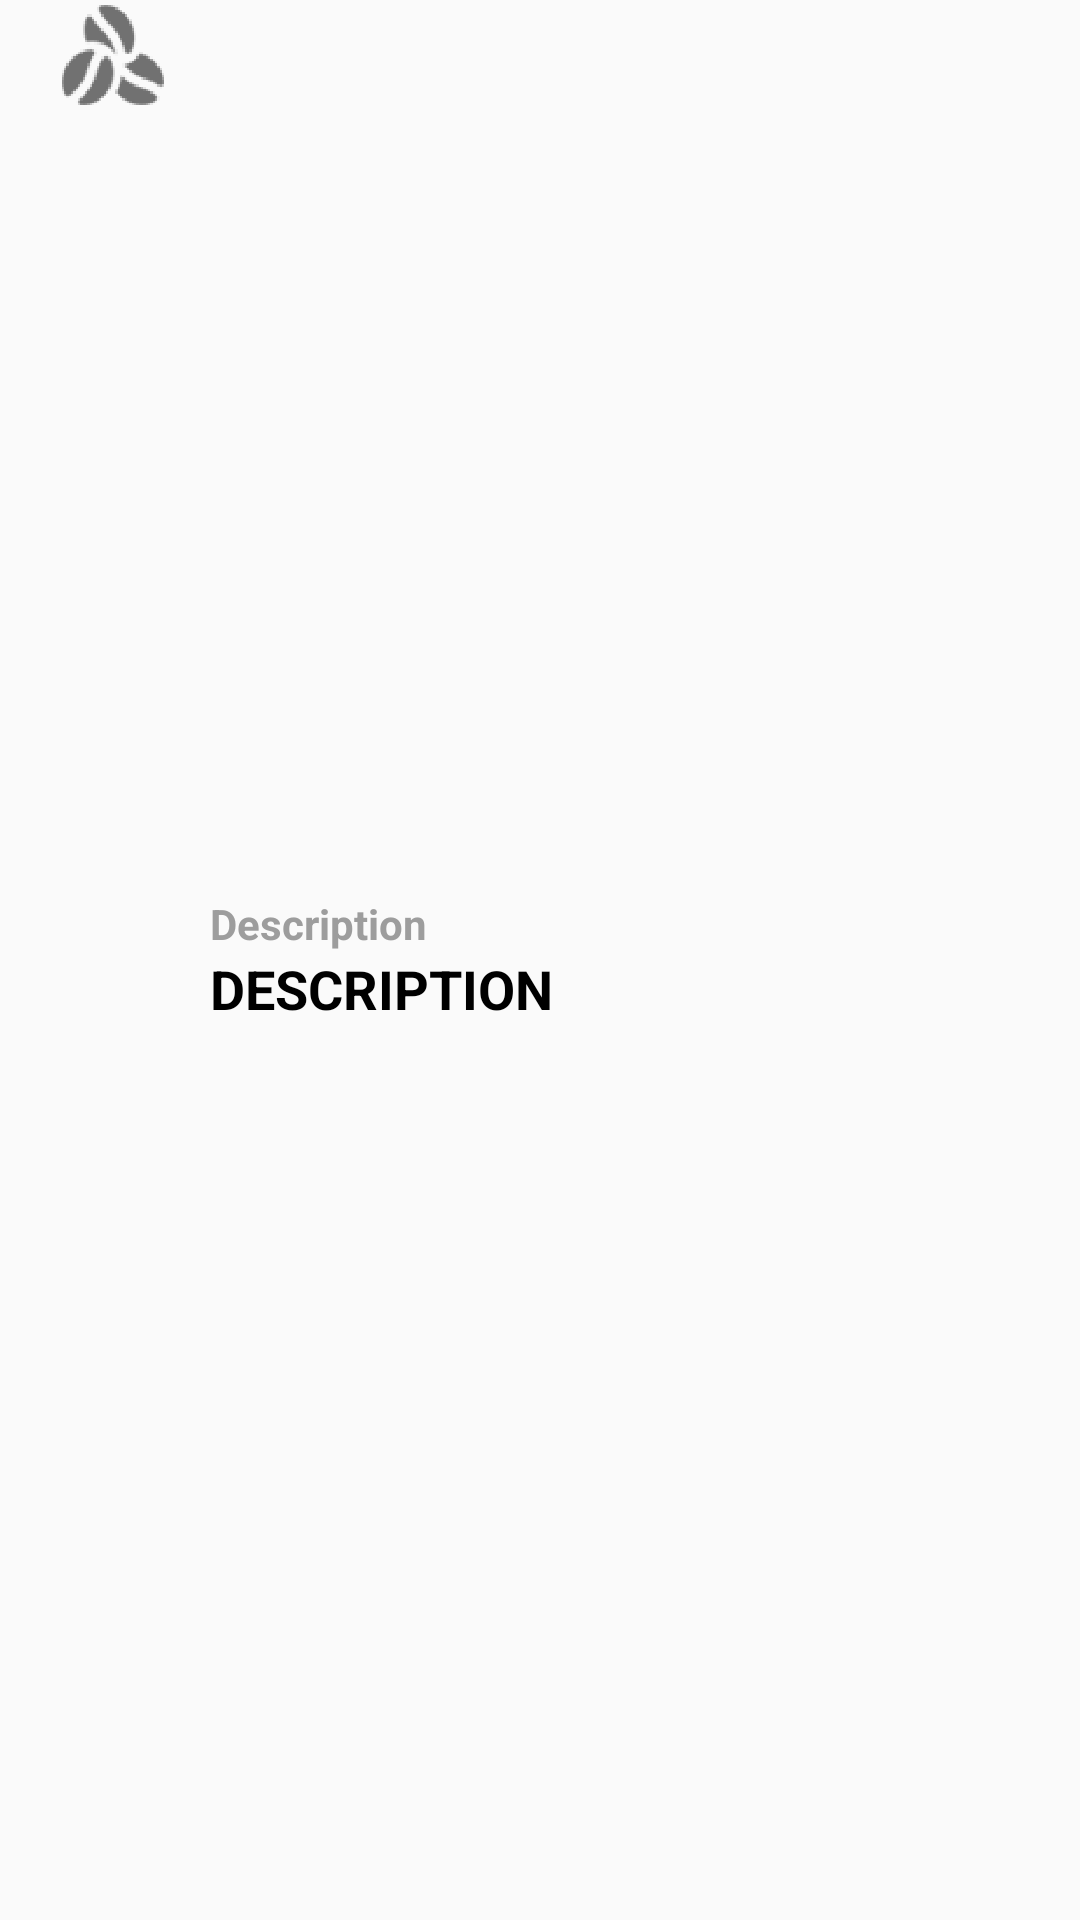

Icons on this 1080×1920 Android screen, each with the point to tap as point (x, y):
coffee beans: point (113, 55)
